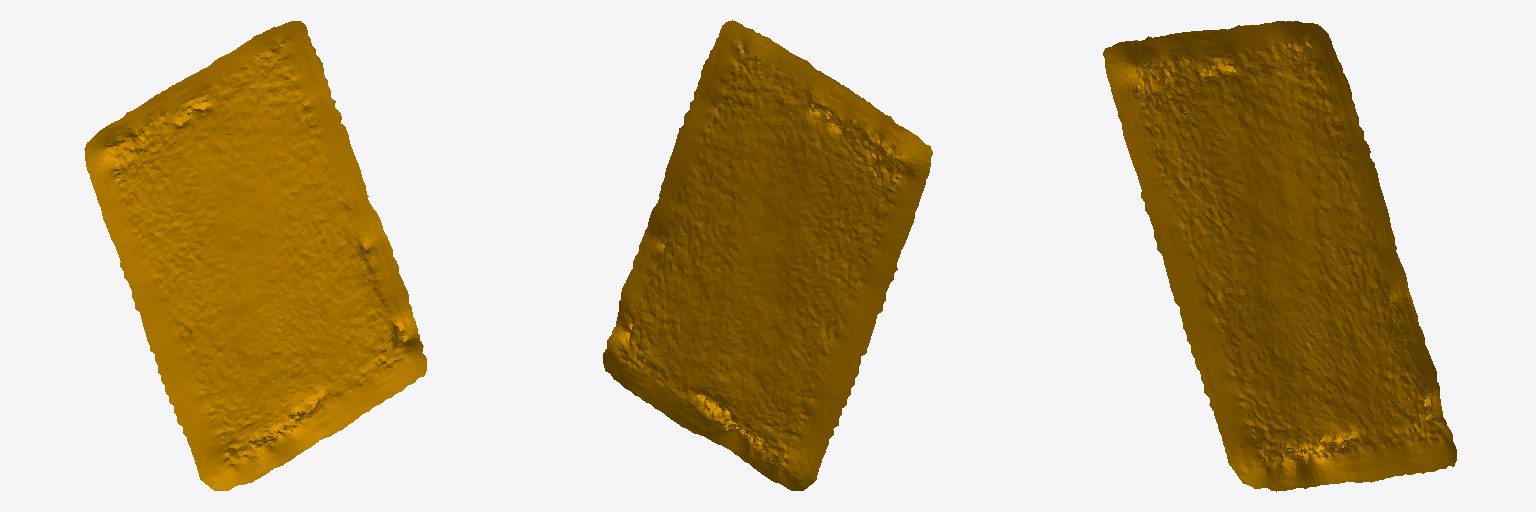
URDF robot description (field.urdf):
<?xml version="1.0" ?>
<robot name="field.urdf">
  <link name="baseLink">
    <contact>
      <lateral_friction value="1.0"/>
      <rolling_friction value="0.0"/>
      <contact_cfm value="0.0"/>
      <contact_erp value="1.0"/>
    </contact>
    <inertial>
      <origin rpy="1.57075 0 0" xyz="0.0 0.0 0.0"/>
       <mass value="100.1"/>
       <inertia ixx="0" ixy="0" ixz="0" iyy="0" iyz="0" izz="0"/>
    </inertial>
    <visual>
      <origin rpy="1.57075 0 0" xyz="0 0 0"/>
      <geometry>
        <mesh filename="source/field.obj" scale=".1 .1 .1"/>
      </geometry>
      <texture filename="source/field.jpg"/>
    </visual>
    <collision>
      <origin rpy="0 0 0" xyz="0 0 0"/>
      <geometry>
	 	<mesh filename="source/field.obj" scale="2 2 2"/>
      </geometry>
    </collision>
  </link>
</robot>

--- Facts derived from the render (not from the file) ---
Views: 3 orthographic renders of the robot side by side, from view 1: azimuth 30°, elevation 25°; view 2: azimuth 150°, elevation 25°; view 3: azimuth 330°, elevation 25°.
Model field.urdf with 1 links and 0 joints (none), rooted at baseLink, posed all joints at 0.
Links seen in each view (by area): view 1: baseLink; view 2: baseLink; view 3: baseLink.
Boxes of the visible links, x1,y1,x2,y2 form: baseLink: [84, 21, 426, 490]; baseLink: [603, 20, 932, 490]; baseLink: [1103, 21, 1456, 491].
Bounding box of the posed robot: 2.65 × 0.1727 × 3.42 m (x, y, z).
1 mesh visuals loaded from 1 distinct referenced files (1 OBJ).